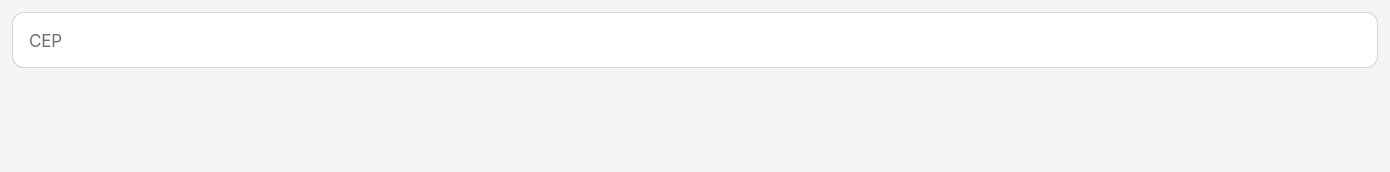
Test case: CepField — endereço pelo CEP (US-14) › aplica a máscara e busca o endereço ao completar 8 dígitos
The width and height of the screenshot is (1390, 172).
In the field labelled "CEP": (695, 40) [12, 12, 1378, 68], type "5205000"
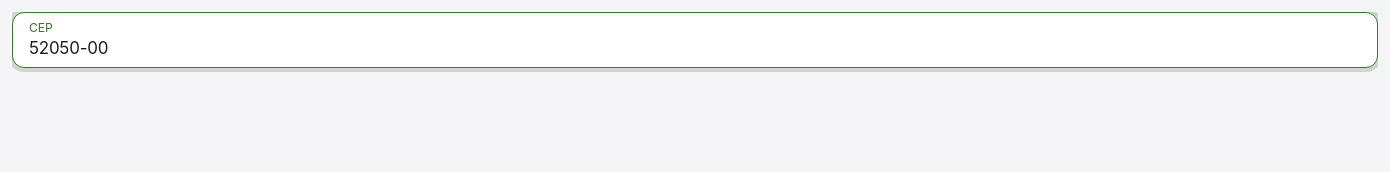
Expected: the field labelled "CEP" holds "52050-00"
In the field labelled "CEP": (695, 40) [12, 12, 1378, 68], type "0"
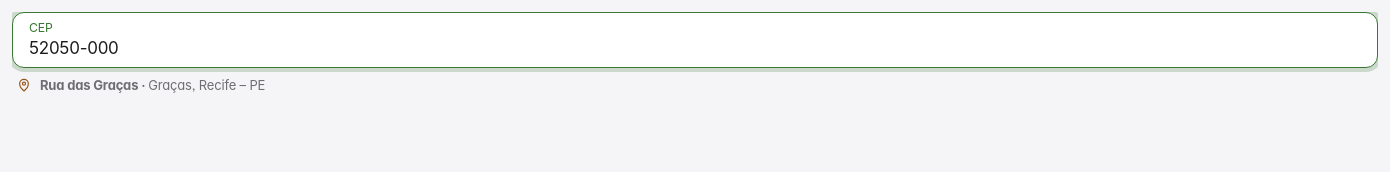
Expected: the field labelled "CEP" holds "52050-000", [12, 12, 1378, 68]
Expected: the message reads "Rua das Graças · Graças, Recife – PE", [16, 77, 265, 93]
